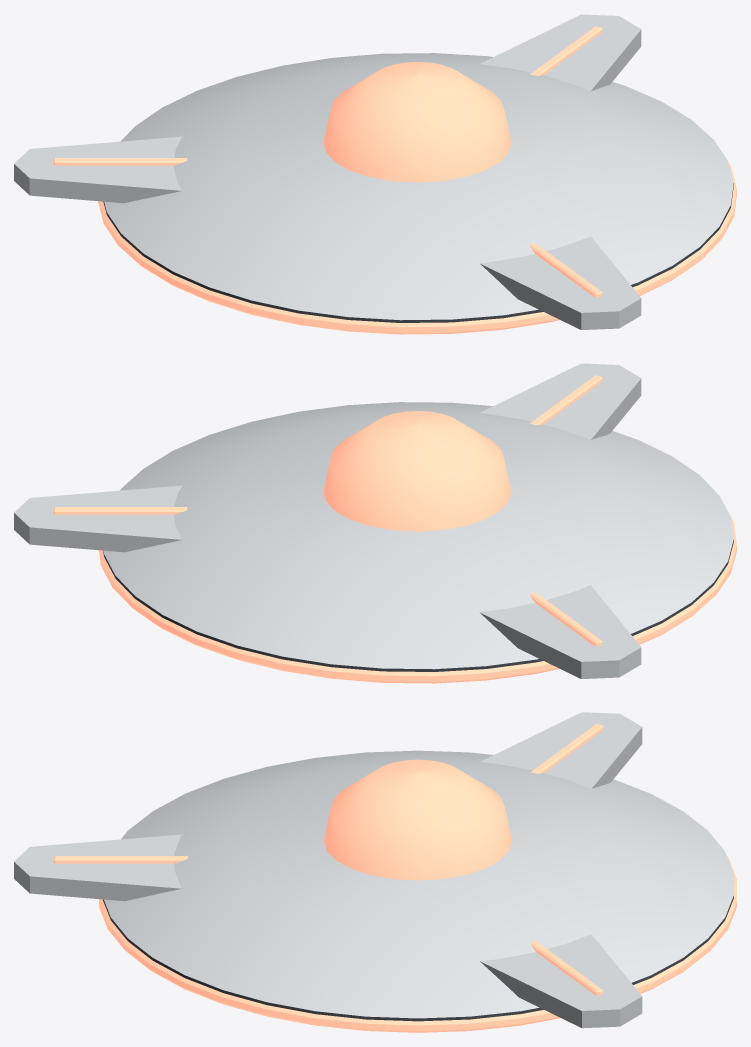
File: R4D_ExplosiveTrap.fbx
3 renders of one model, top to bottom at view 1: azimuth 30°, elevation 25°; view 2: azimuth 150°, elevation 25°; view 3: azimuth 270°, elevation 25°, orthographic.
Visible parts, largest first — view 1: R4D_ExplosiveTrap_Body, R4D_ExplosiveTrap_Lamp; view 2: R4D_ExplosiveTrap_Body, R4D_ExplosiveTrap_Lamp; view 3: R4D_ExplosiveTrap_Body, R4D_ExplosiveTrap_Lamp.
Part boxes in pixels (<box>): R4D_ExplosiveTrap_Body: <box>14,14,736,334</box>; R4D_ExplosiveTrap_Lamp: <box>323,62,511,182</box>; R4D_ExplosiveTrap_Body: <box>14,363,736,683</box>; R4D_ExplosiveTrap_Lamp: <box>323,411,511,531</box>; R4D_ExplosiveTrap_Body: <box>14,712,736,1032</box>; R4D_ExplosiveTrap_Lamp: <box>323,759,512,880</box>.
Size of the model in its own units: 0.4464 by 0.1 by 0.4563.
